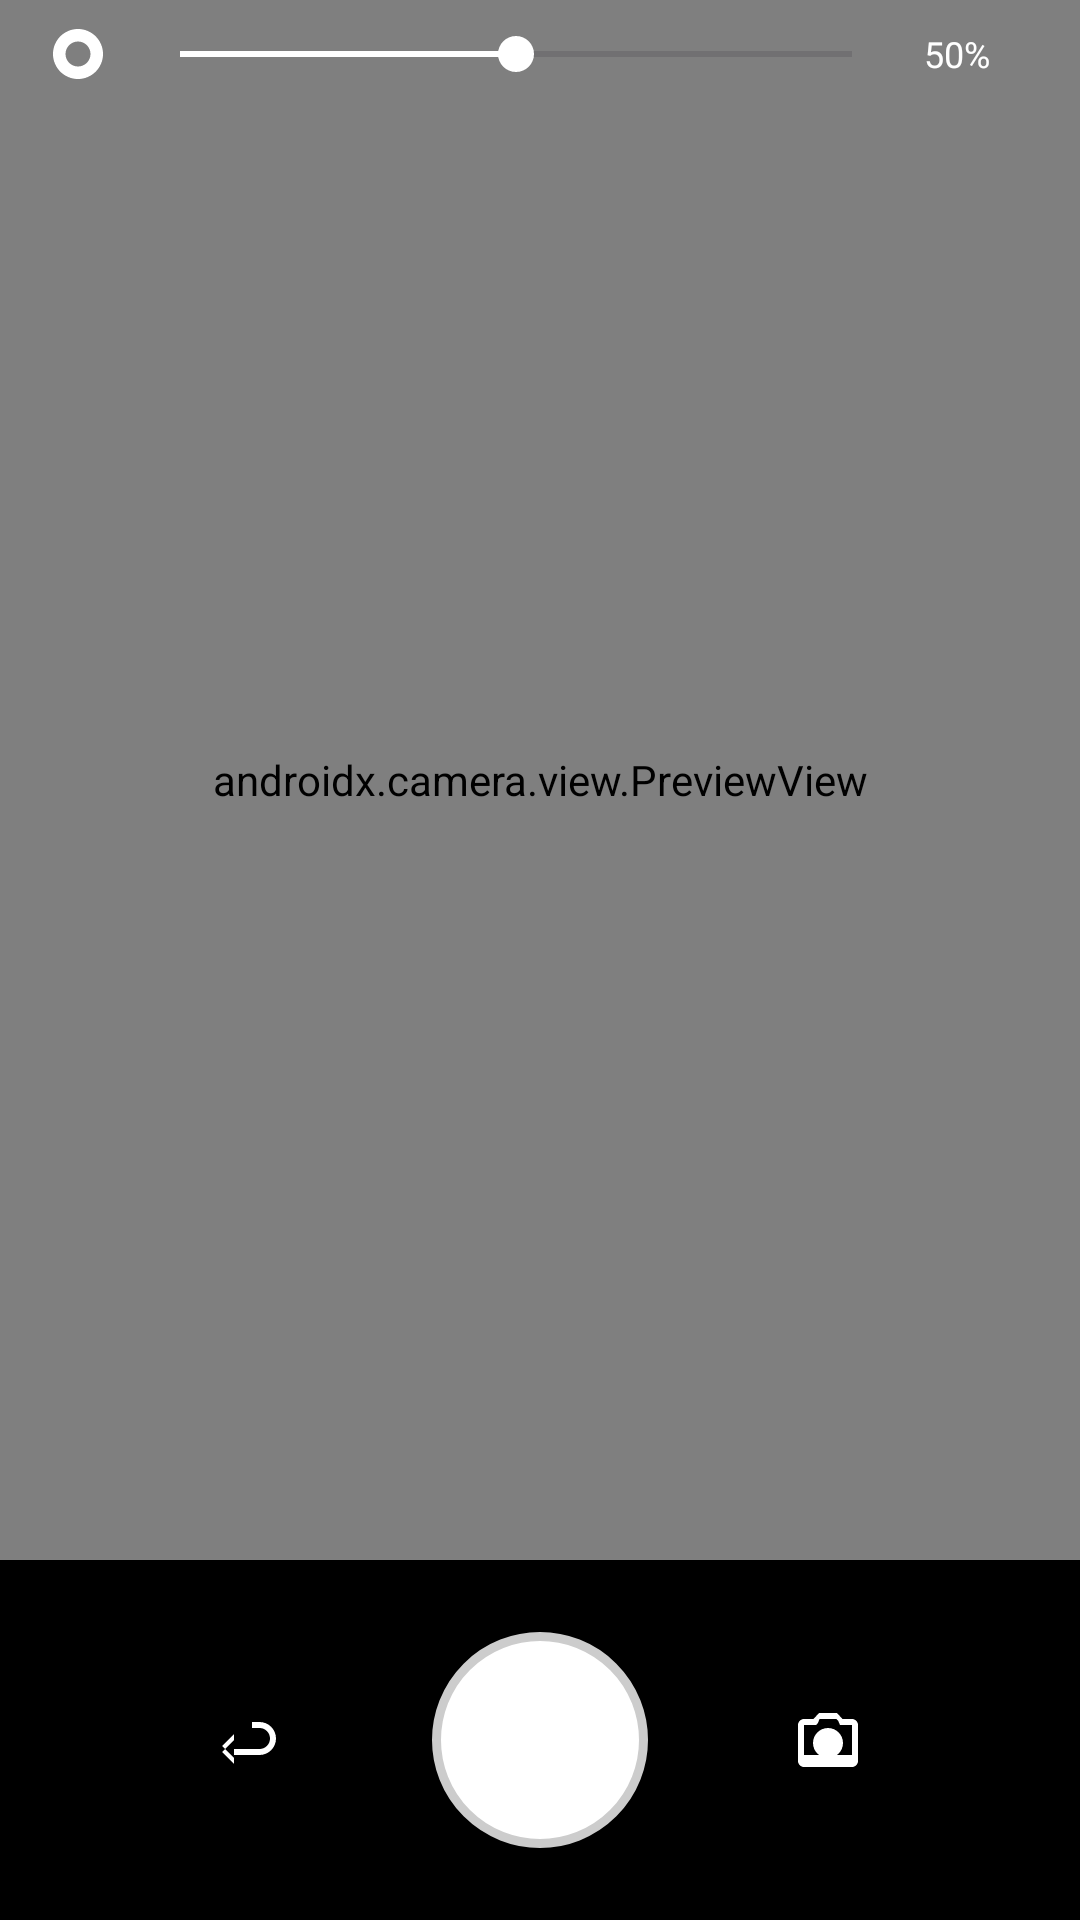

Locate icon controls on the screen. Image size 1080×1920, boxes as (x1, y1, x2, y2).
切换摄像头: (798, 1713, 858, 1767)
